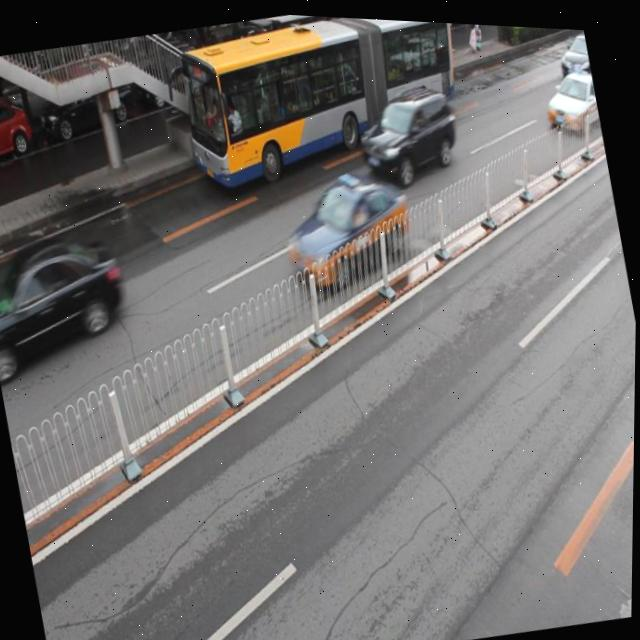car: (0, 222, 133, 376), (279, 160, 417, 291), (34, 59, 140, 142), (133, 31, 213, 110), (215, 20, 293, 88), (539, 60, 602, 133), (0, 89, 40, 173), (552, 26, 592, 75)
truck: (354, 73, 463, 186)
van: (173, 7, 474, 195)
